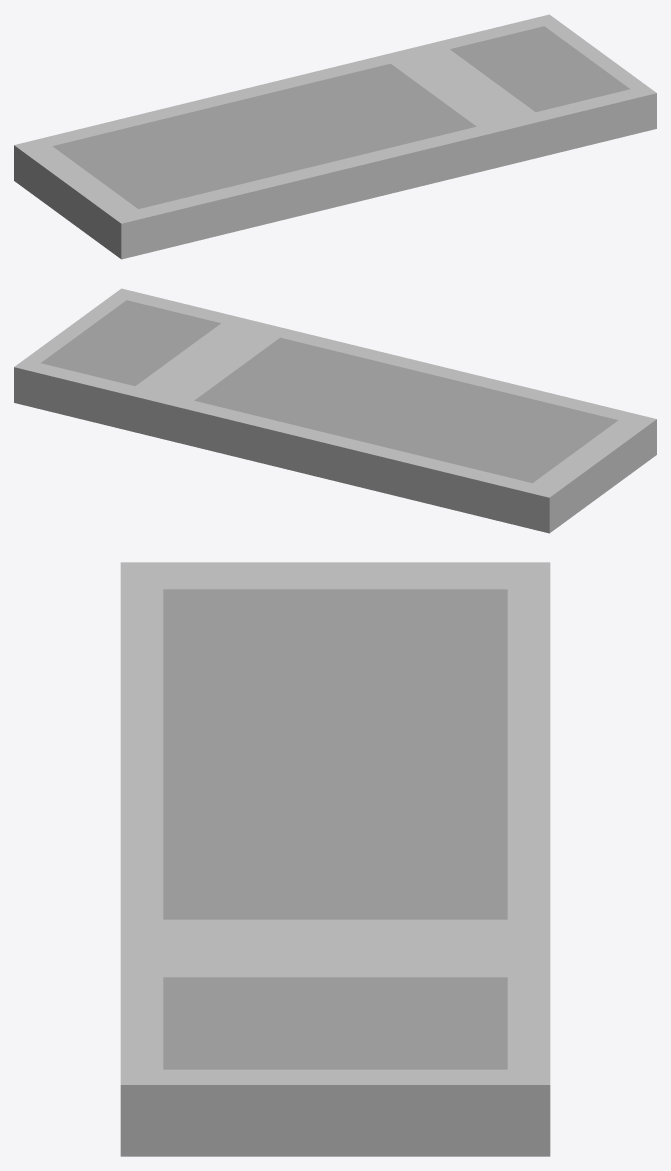
The model's file is SM_Keyboard_01.fbx.
The picture shows the model from 3 angles, top to bottom: view 1: azimuth 30°, elevation 25°; view 2: azimuth 150°, elevation 25°; view 3: azimuth 270°, elevation 25°; orthographic projection. The views are drawn at different scales.
Visible parts, largest first — view 1: SM_Keyboard_01; view 2: SM_Keyboard_01; view 3: SM_Keyboard_01.
Boxes of the visible parts, <box> form: SM_Keyboard_01: <box>14,14,656,259</box>; SM_Keyboard_01: <box>14,288,656,533</box>; SM_Keyboard_01: <box>120,562,550,1156</box>.
Size of the model in its own units: 62.11 by 3.96 by 21.59.
Materials: 1 (1 with a texture image).
